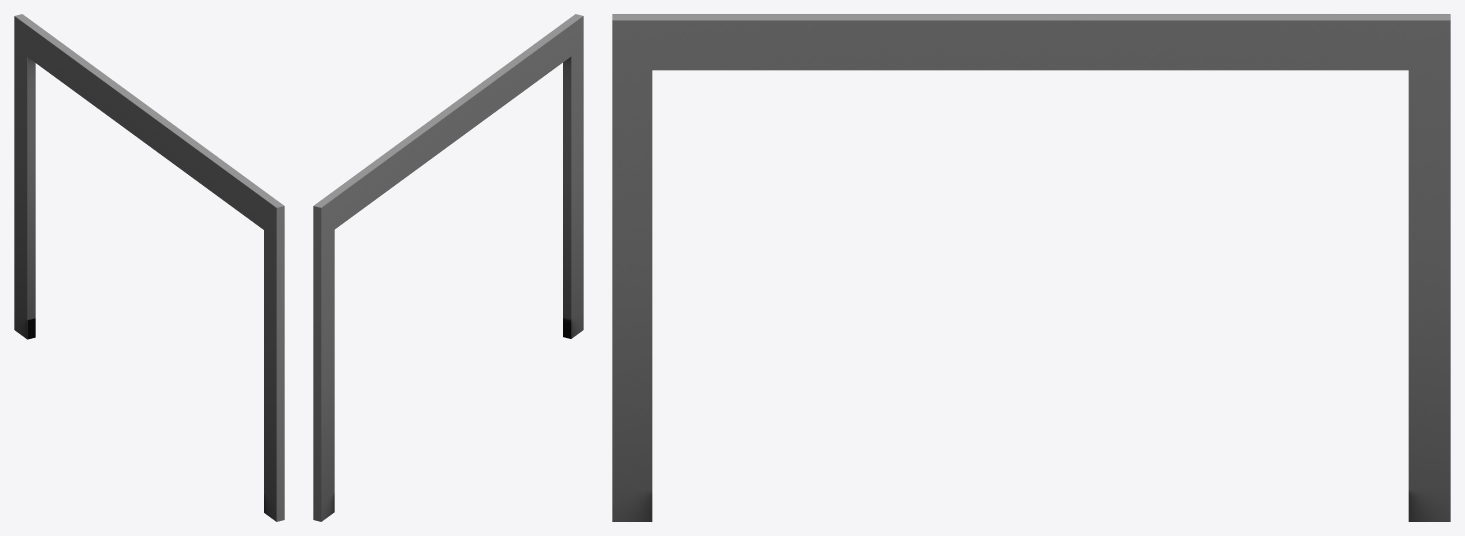
The model's file is single_basket_handle.fbx.
The picture shows the model from 3 angles, left to right: view 1: azimuth 30°, elevation 25°; view 2: azimuth 150°, elevation 25°; view 3: azimuth 270°, elevation 25°; orthographic projection. The views are drawn at different scales.
Visible parts, largest first — view 1: Plane.001; view 2: Plane.001; view 3: Plane.001.
Boxes of the visible parts, bbox=[...] form: Plane.001: bbox=[14, 14, 284, 521]; Plane.001: bbox=[313, 14, 583, 521]; Plane.001: bbox=[612, 14, 1450, 521].
Bounding box in the file's own units: 1.09 × 40.2 × 60.86.
